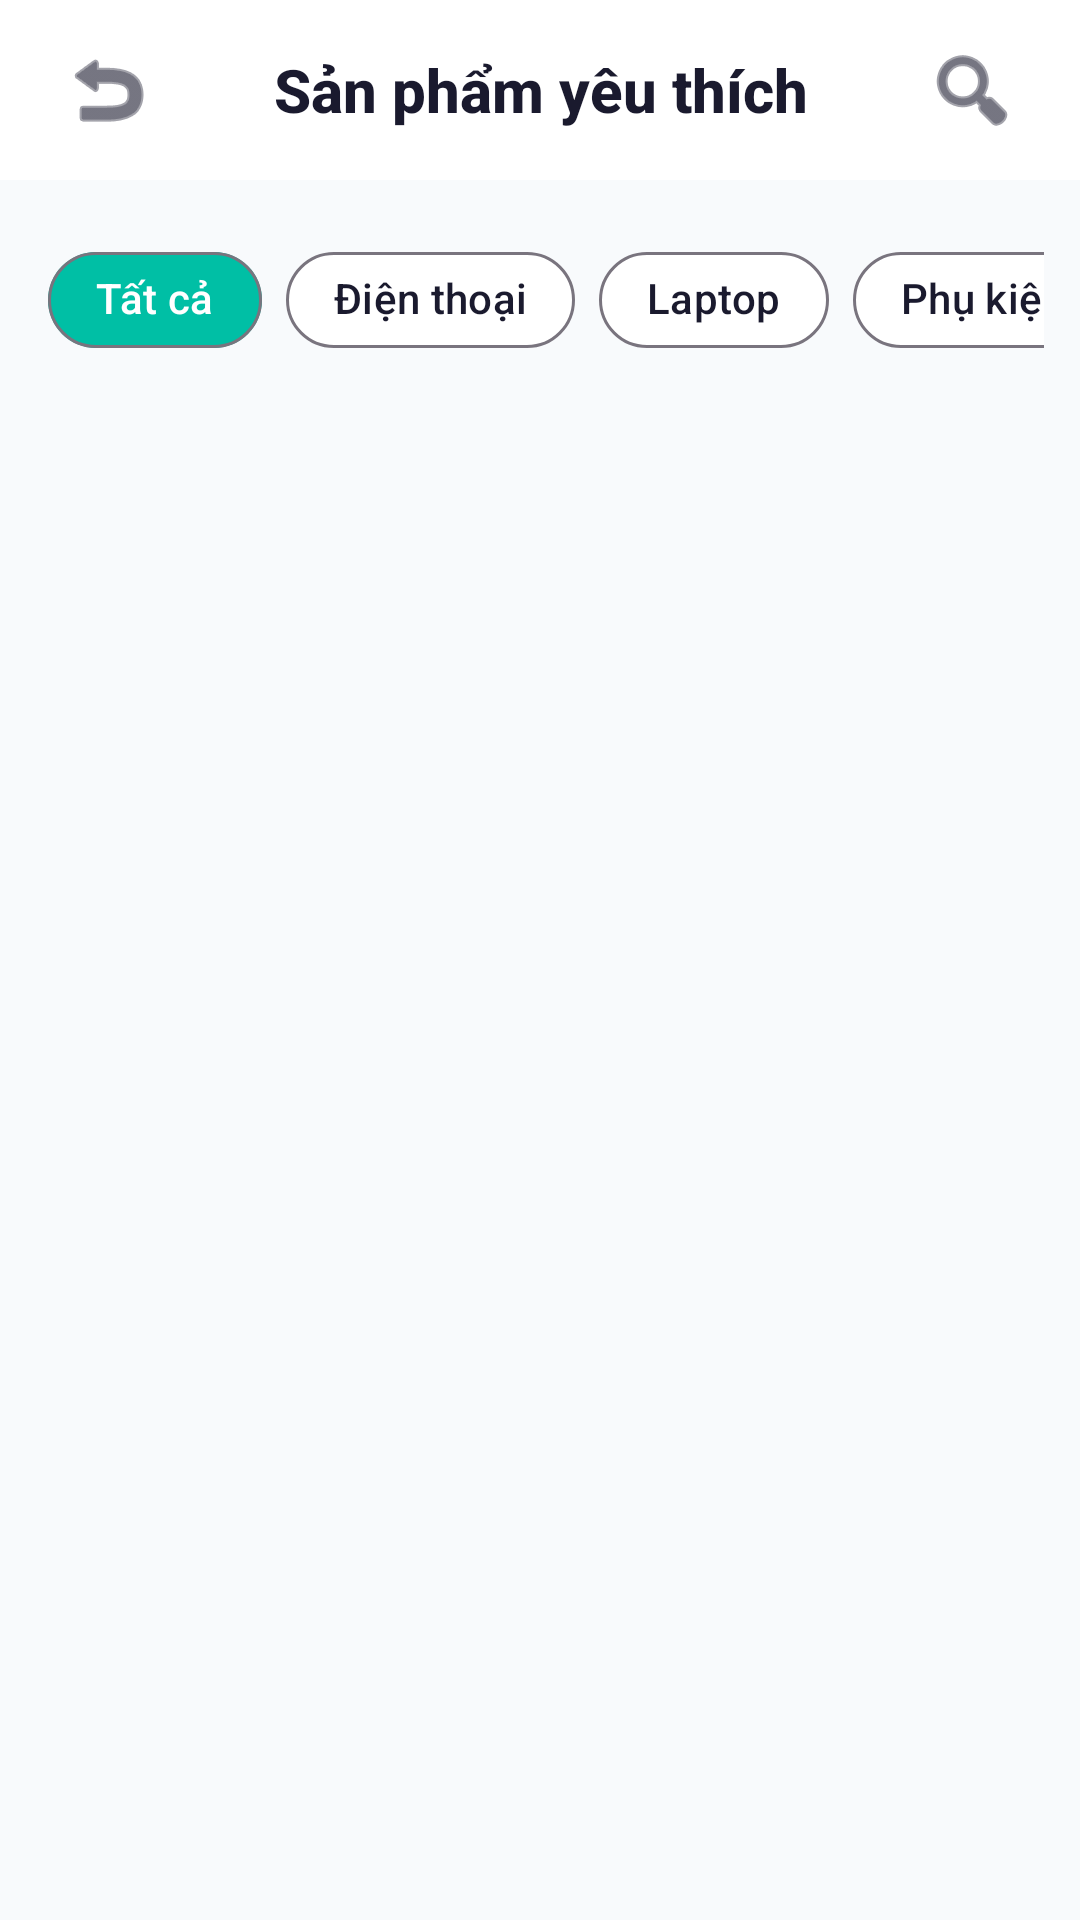

Icon bounding boxes for this 1080w x 1920h phone screenshot, format (x1, y1, x2, y2):
Back: (75, 59, 144, 122)
Search: (936, 55, 1008, 126)
